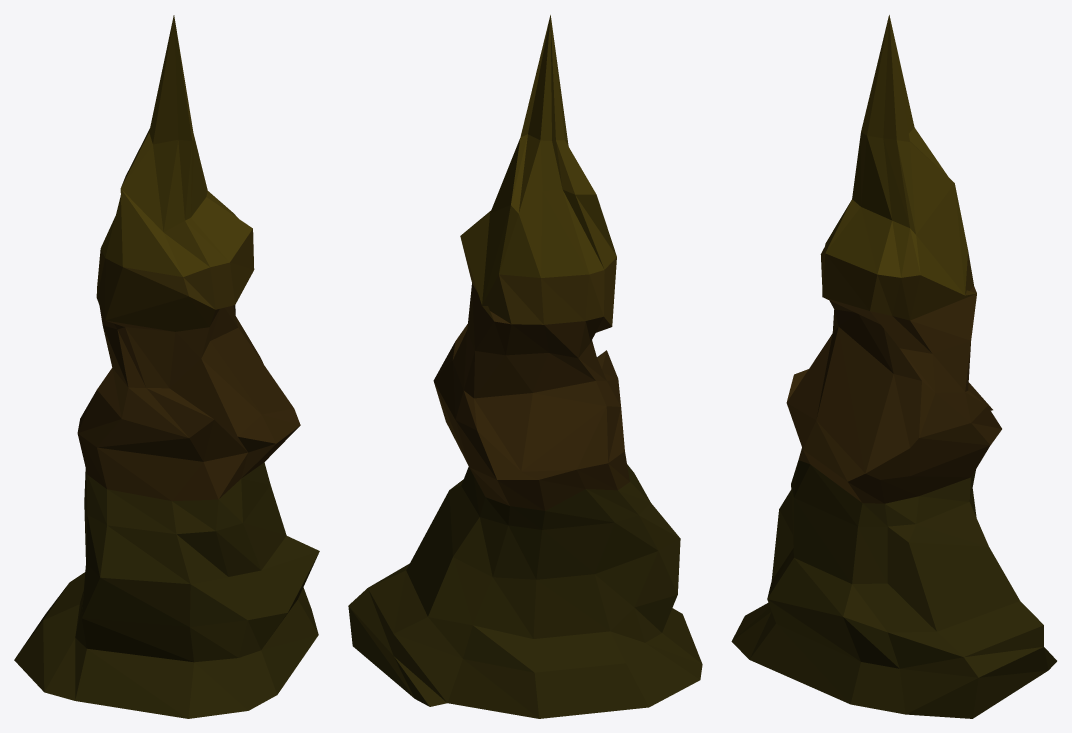
3 renders of one model, left to right at view 1: azimuth 30°, elevation 25°; view 2: azimuth 150°, elevation 25°; view 3: azimuth 270°, elevation 25°, orthographic.
Bounding box in the file's own units: 1.77 × 3.65 × 1.71.
